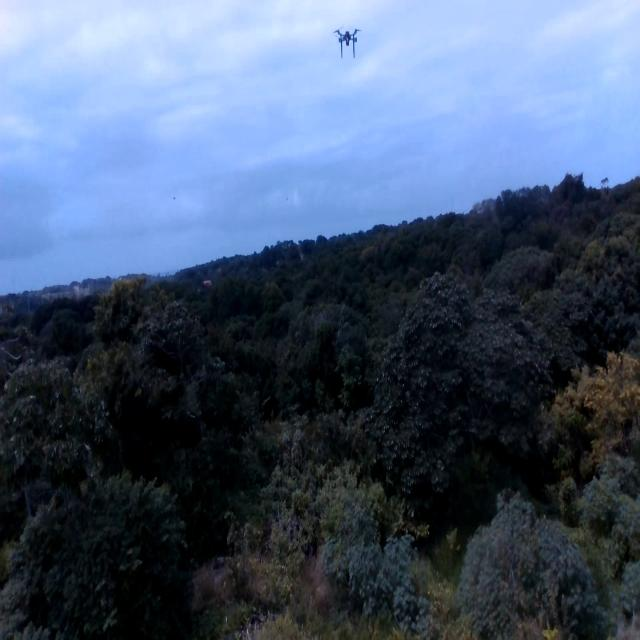-uav-: (328, 15, 368, 69)
